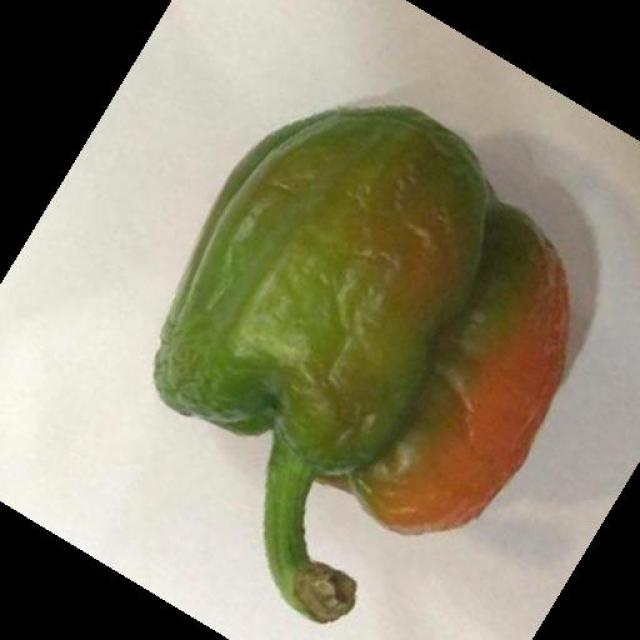Stale_Capsicum: (167, 111, 568, 553)
